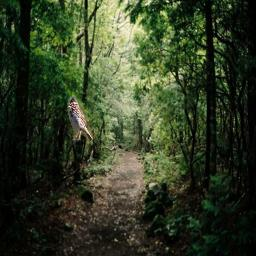Sparrow: (67, 96, 93, 143)
